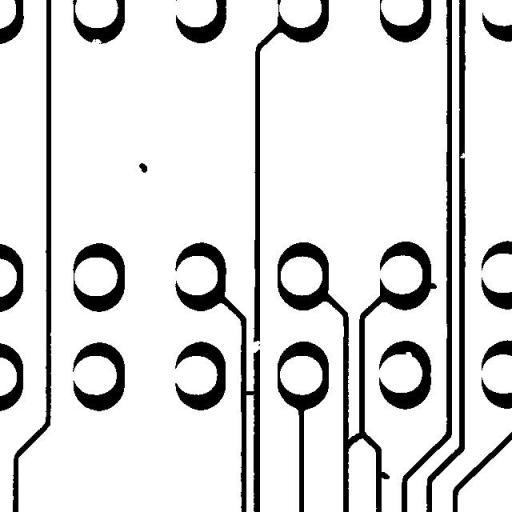copper: (132, 155, 154, 180)
mousebite: (398, 344, 422, 367), (84, 31, 109, 51), (452, 144, 474, 166)
open: (242, 333, 268, 360)
short: (336, 424, 374, 457), (234, 382, 262, 402)
spur: (370, 464, 396, 486), (419, 274, 444, 296)
